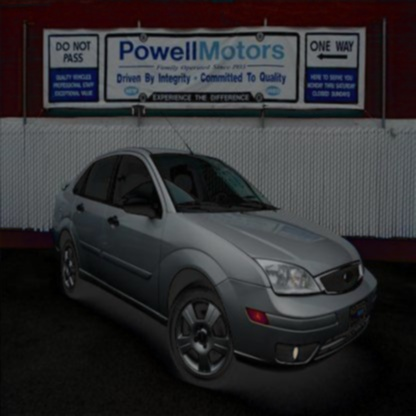Vehicle: (53, 148, 378, 392)
